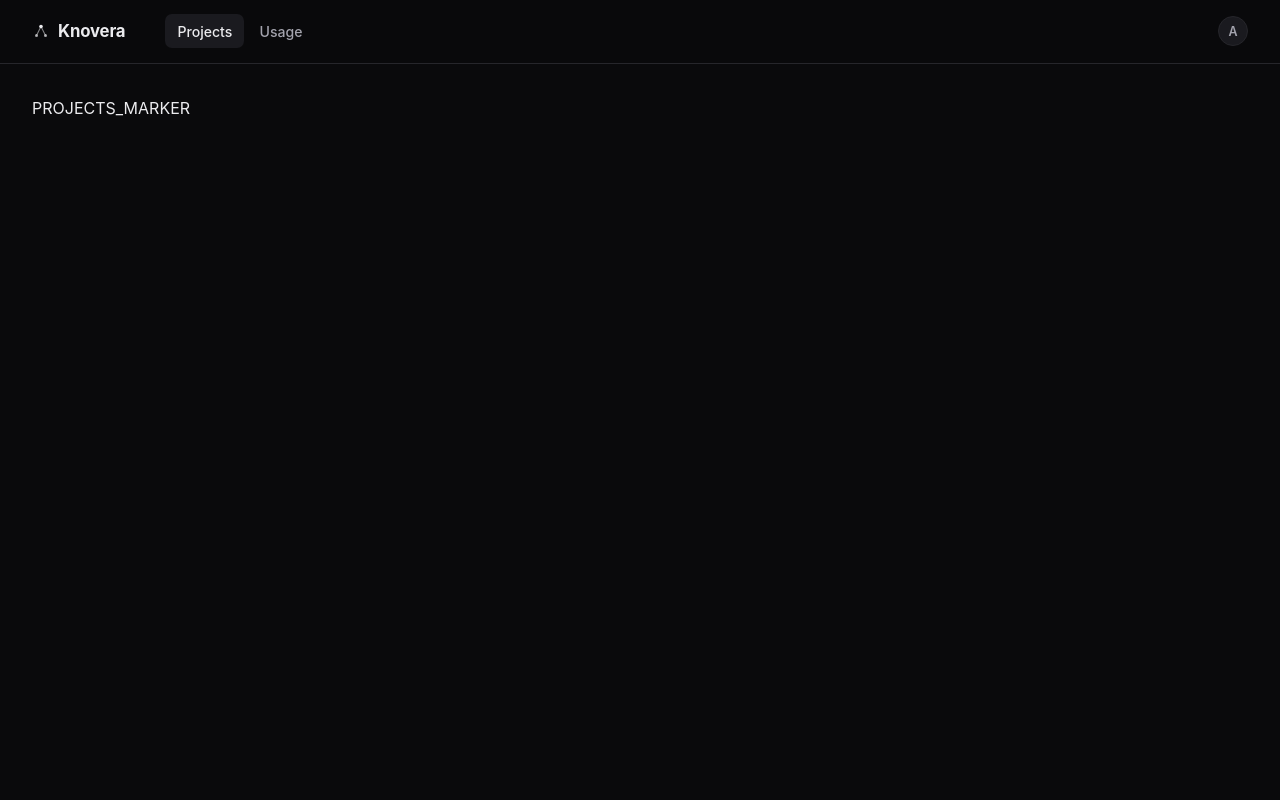
Test: AppShell account menu (Phase 4D.1) › H: clicking outside the menu closes it
Click the button named "Account menu" at (1233, 31), box [1218,16,1248,46]
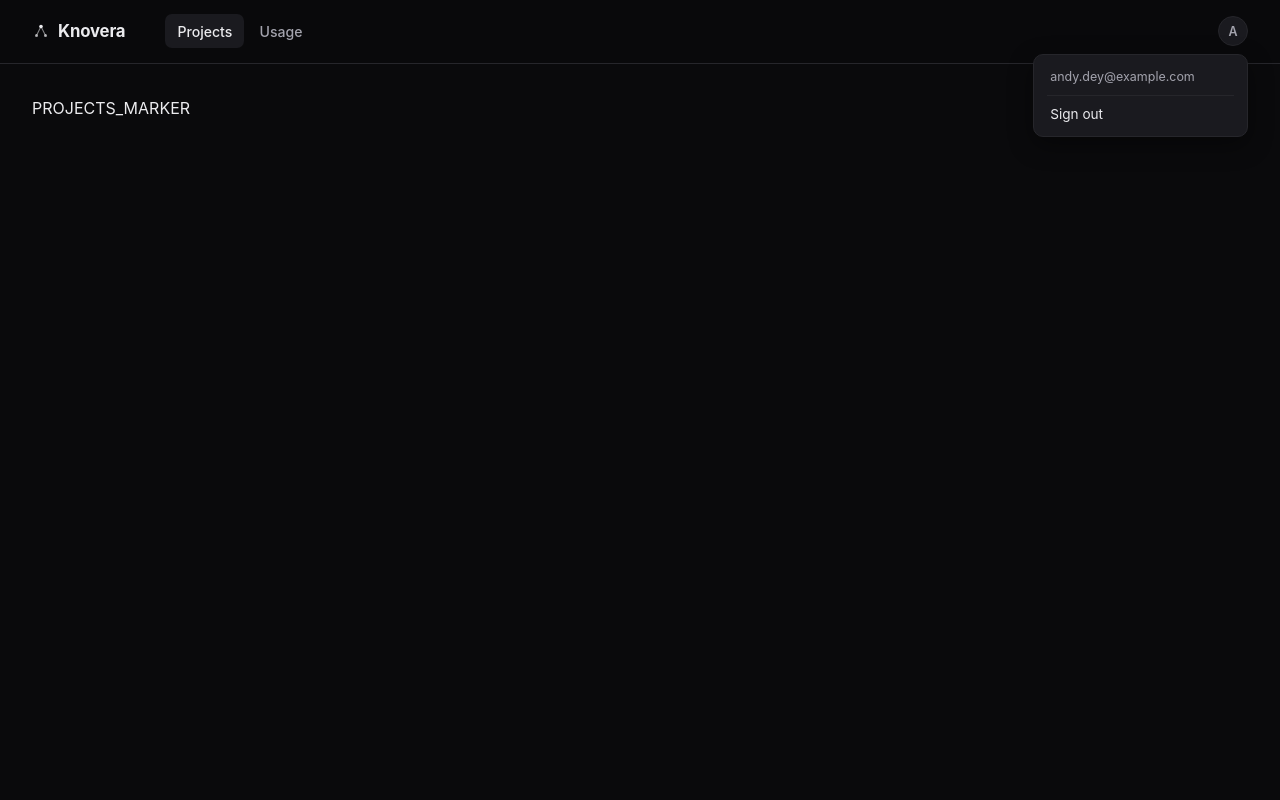
Check: the menu is shown, box [1033,54,1248,137]
Press the mouse on the element that starts with "Knovera" at (640, 400), box [0,0,1279,799]
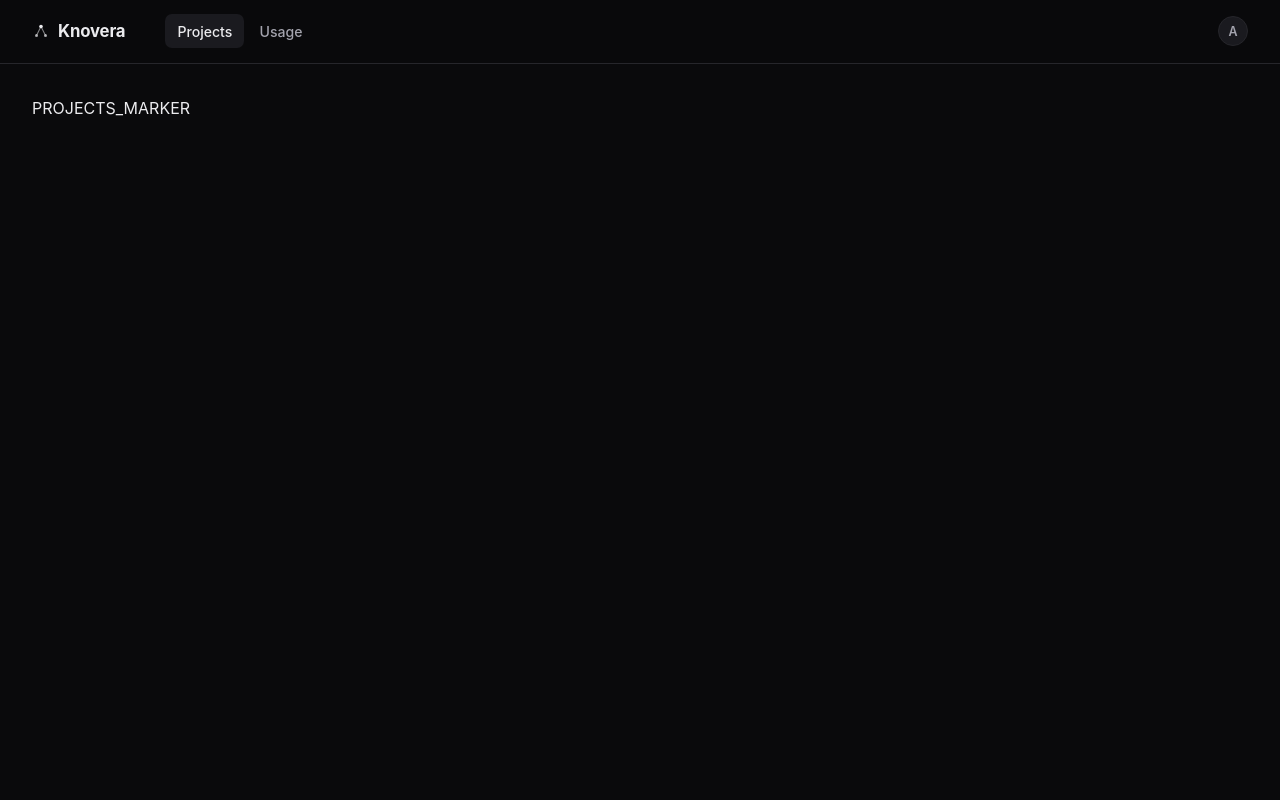
Check: the menu is gone
